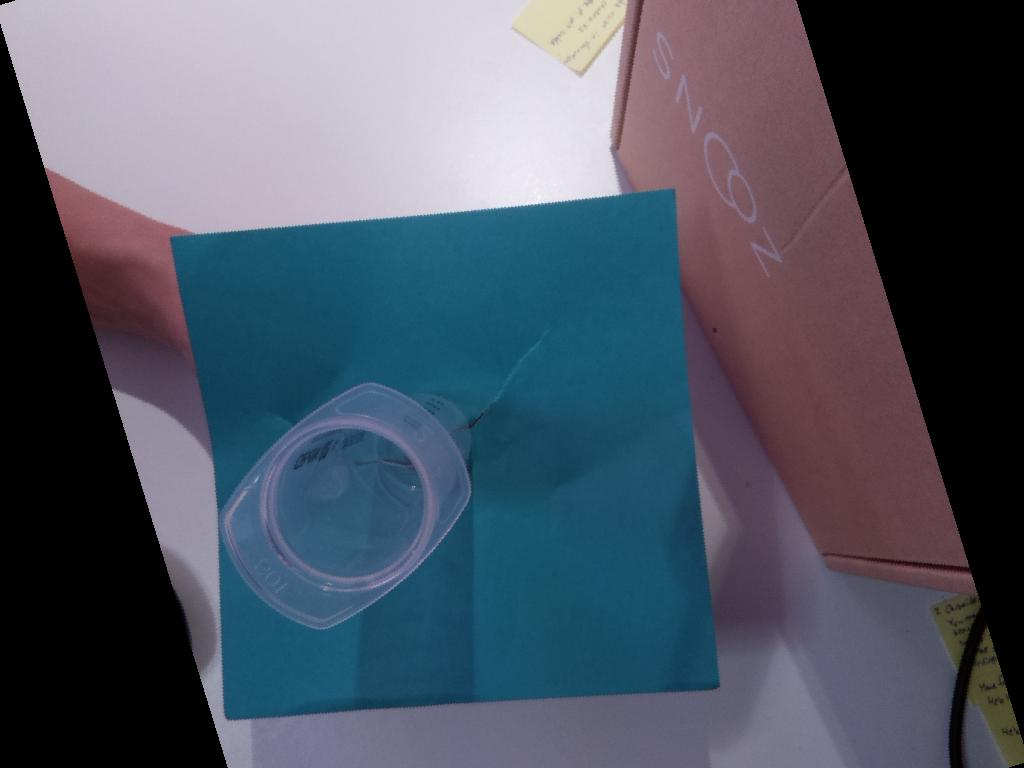clean: (218, 378, 474, 630)
